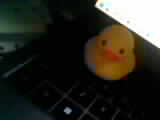duck: (79, 23, 132, 79)
